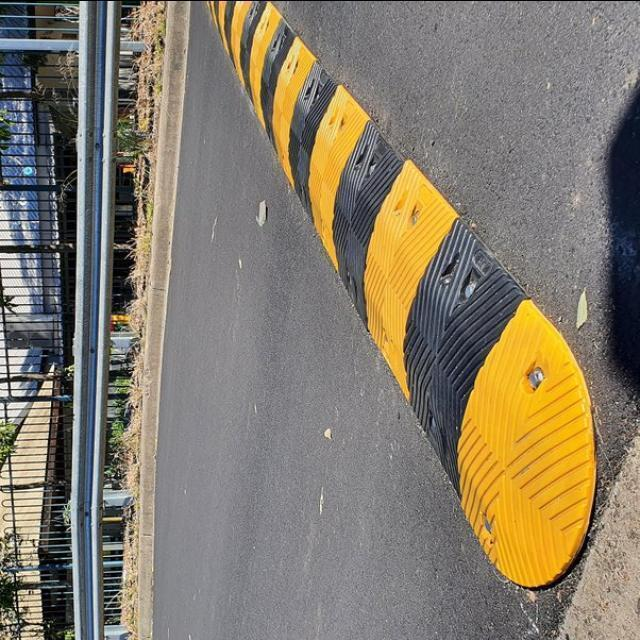speedbreaker: (190, 0, 594, 584)
